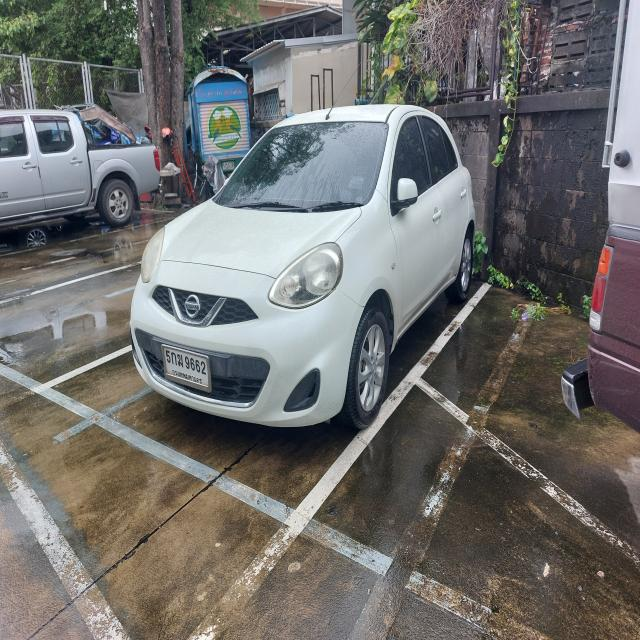license_plate: (161, 341, 214, 393)
